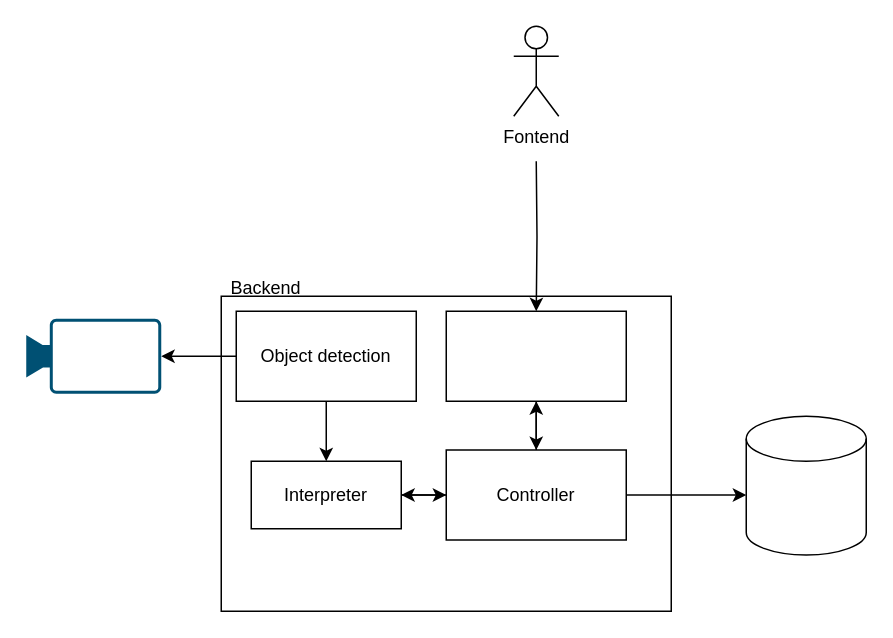
Some shapes in this 893 by 638 pixel diagram are drawn without their labels. Here are the shapes that lost their labels. From the top down, the centre of each, then its label:
[535,355]: API
[805,485]: Database
